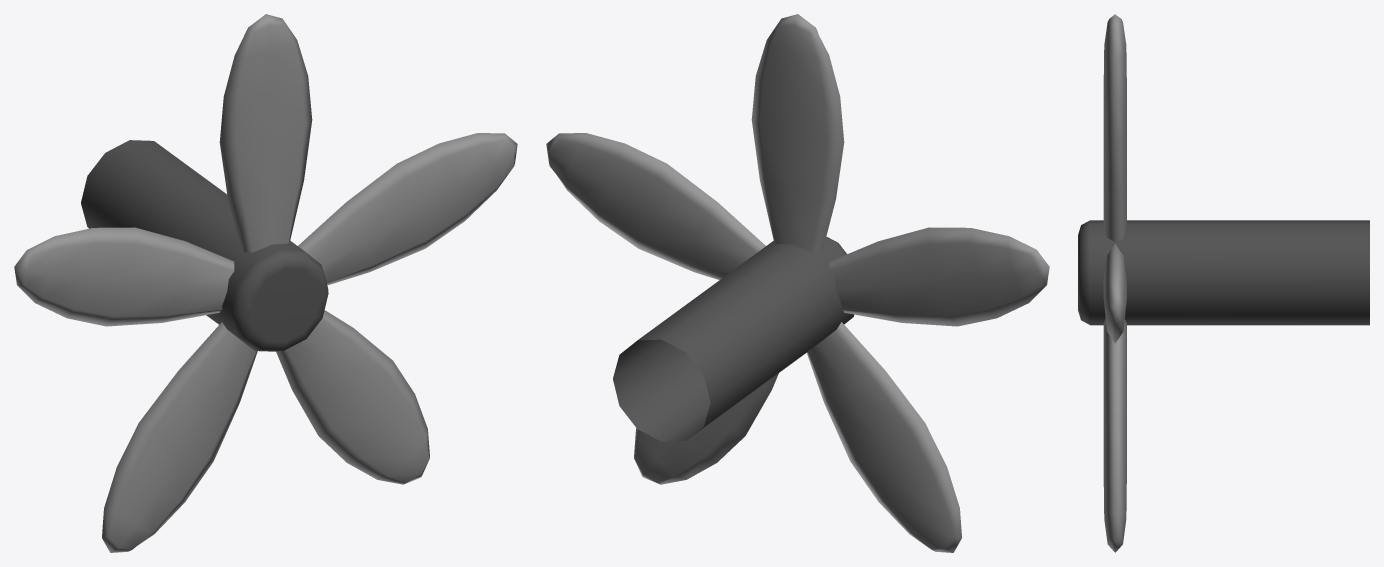
The model's file is cooler_002.fbx.
3 renders of one model, left to right at view 1: azimuth 30°, elevation 25°; view 2: azimuth 150°, elevation 25°; view 3: azimuth 270°, elevation 25°, orthographic. The views are drawn at different scales.
Parts seen in each view (by area): view 1: cooler_002; view 2: cooler_002; view 3: cooler_002.
Boxes of the visible parts, left/top/right/bottom form: cooler_002: left=14, top=14, right=517, bottom=552; cooler_002: left=546, top=14, right=1049, bottom=552; cooler_002: left=1078, top=14, right=1369, bottom=552.
Bounding box in the file's own units: 812 × 437 × 777.
